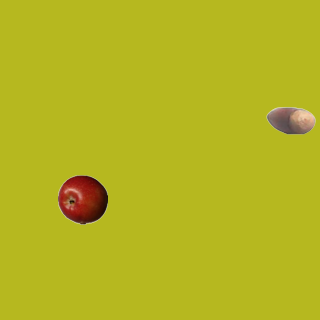Apple Braeburn: (57, 174, 107, 224)
Hazelnut: (265, 95, 315, 145)
